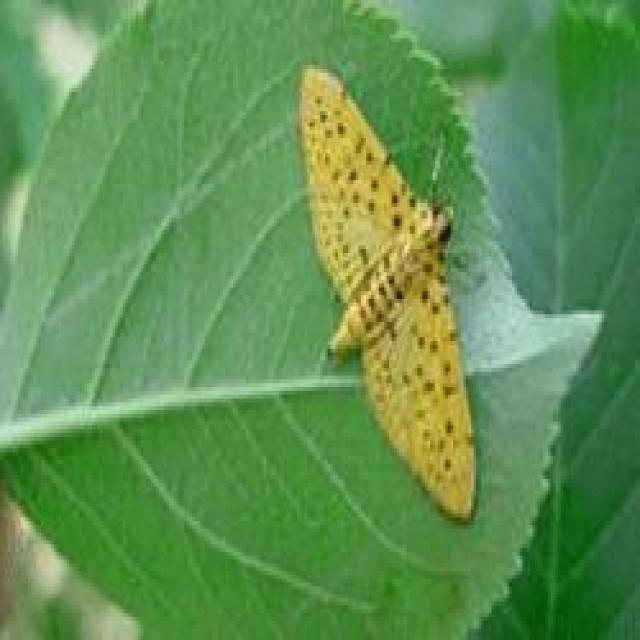peach borer: (296, 57, 501, 528)
